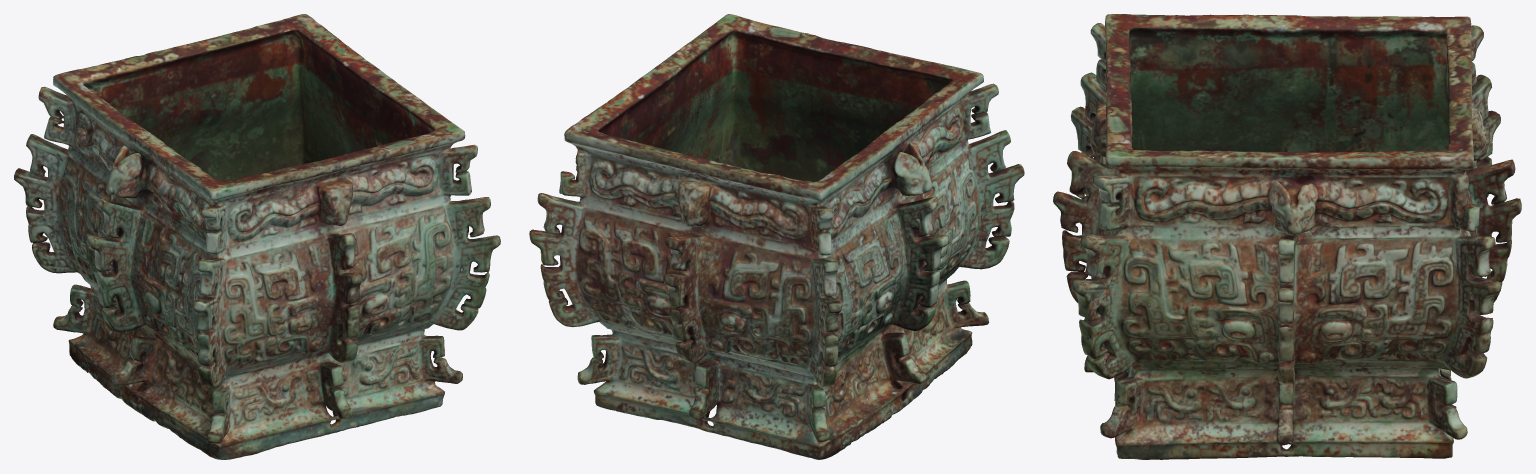
The model's file is body.glb.
3 views of the same model, side by side, from view 1: azimuth 30°, elevation 25°; view 2: azimuth 150°, elevation 25°; view 3: azimuth 270°, elevation 25° (orthographic). The views are drawn at different scales.
Bounding box in the file's own units: 0.2328 × 0.1845 × 0.2476.
Materials: 1 (1 with a texture image).
